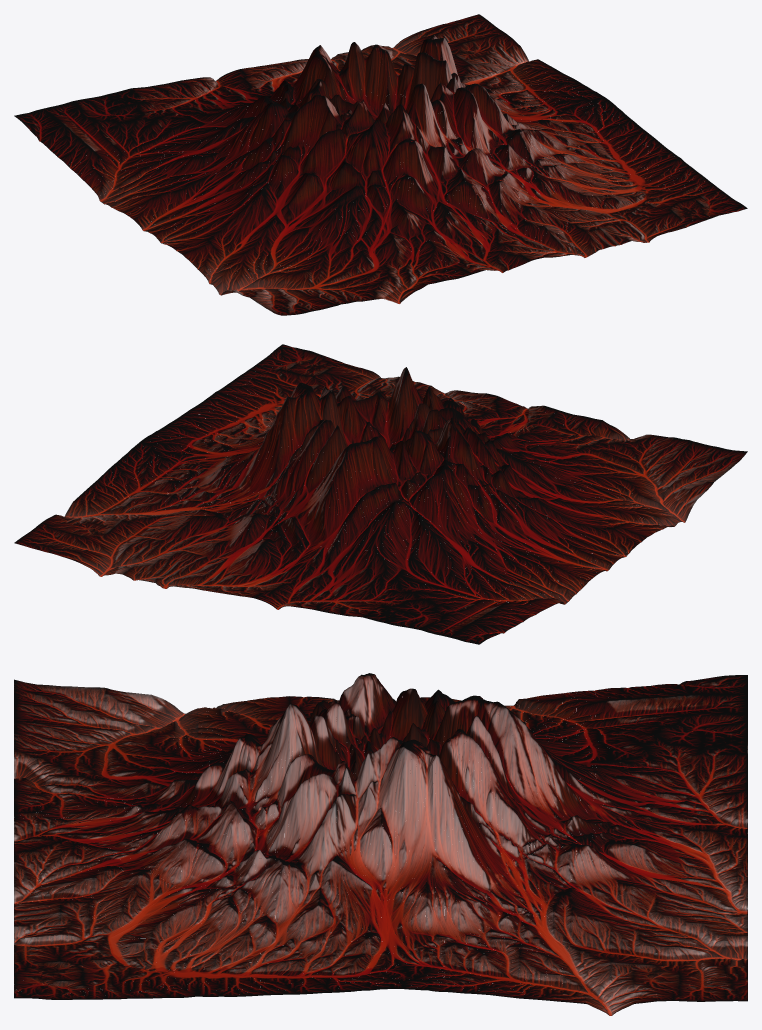
Rendered from terrain-hell.glb.
3 renders of one model, top to bottom at view 1: azimuth 30°, elevation 25°; view 2: azimuth 150°, elevation 25°; view 3: azimuth 270°, elevation 25°, orthographic. The views are drawn at different scales.
Visible parts, largest first — view 1: Object_5, Object_4, Object_2, Object_3, Object_6, Object_7; view 2: Object_2, Object_5, Object_3, Object_4, Object_6, Object_7; view 3: Object_2, Object_3, Object_5, Object_6, Object_4, Object_7.
Part boxes in pixels (box(x1,y1,x2,y2)): Object_5: box(101, 91, 738, 315); Object_4: box(98, 83, 718, 281); Object_2: box(14, 14, 747, 227); Object_3: box(67, 44, 668, 257); Object_6: box(241, 34, 580, 186); Object_7: box(88, 36, 623, 230); Object_2: box(14, 344, 563, 644); Object_5: box(172, 347, 747, 602); Object_3: box(94, 386, 545, 615); Object_4: box(191, 362, 671, 604); Object_6: box(138, 382, 521, 541); Object_7: box(103, 384, 606, 605); Object_2: box(14, 675, 747, 1015); Object_3: box(16, 689, 610, 996); Object_5: box(14, 679, 561, 997); Object_6: box(335, 673, 540, 985); Object_4: box(14, 696, 559, 997); Object_7: box(335, 691, 564, 995).
Bounding box in the file's own units: 10230 × 2624 × 10230.
Materials: 1 (1 with a texture image).
